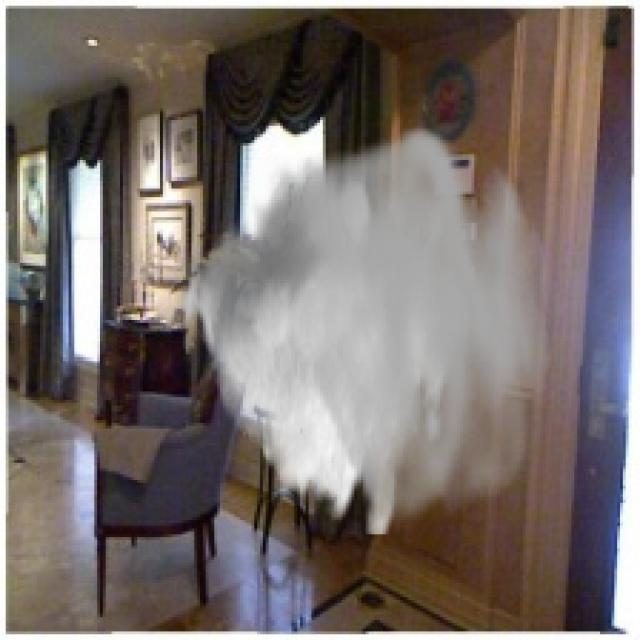smoke: (177, 120, 552, 534)
